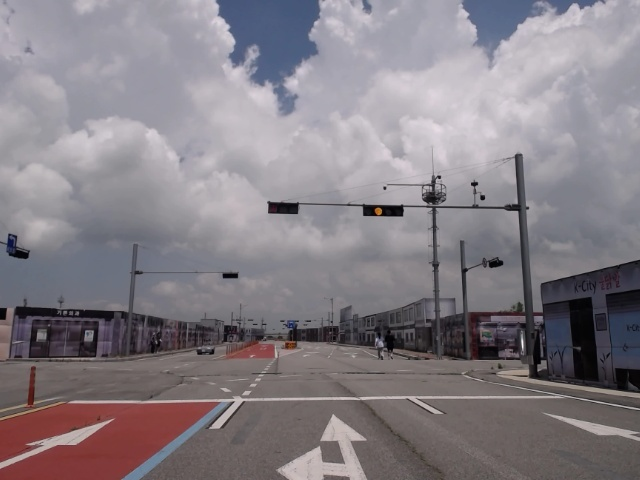orange_4: (362, 205, 405, 216)
